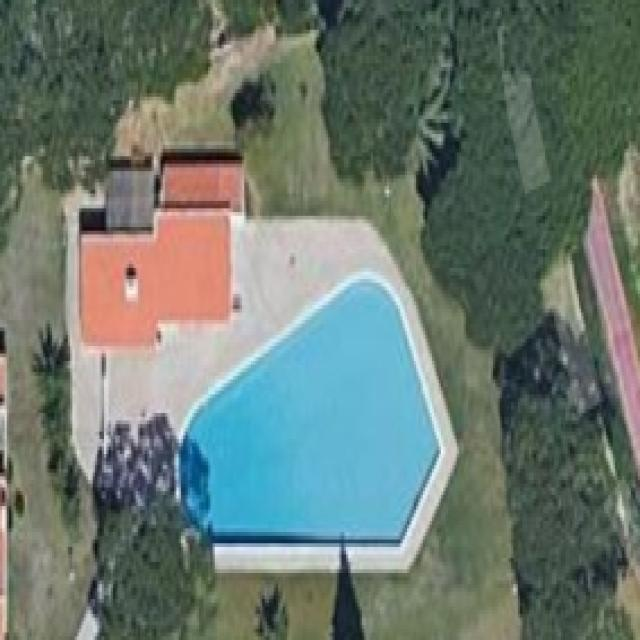pool: (99, 222, 493, 640)
